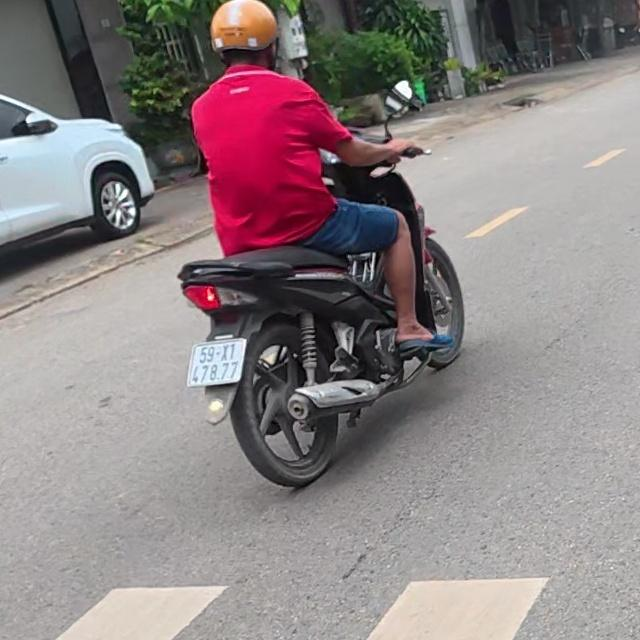license-plate: (185, 338, 247, 388)
